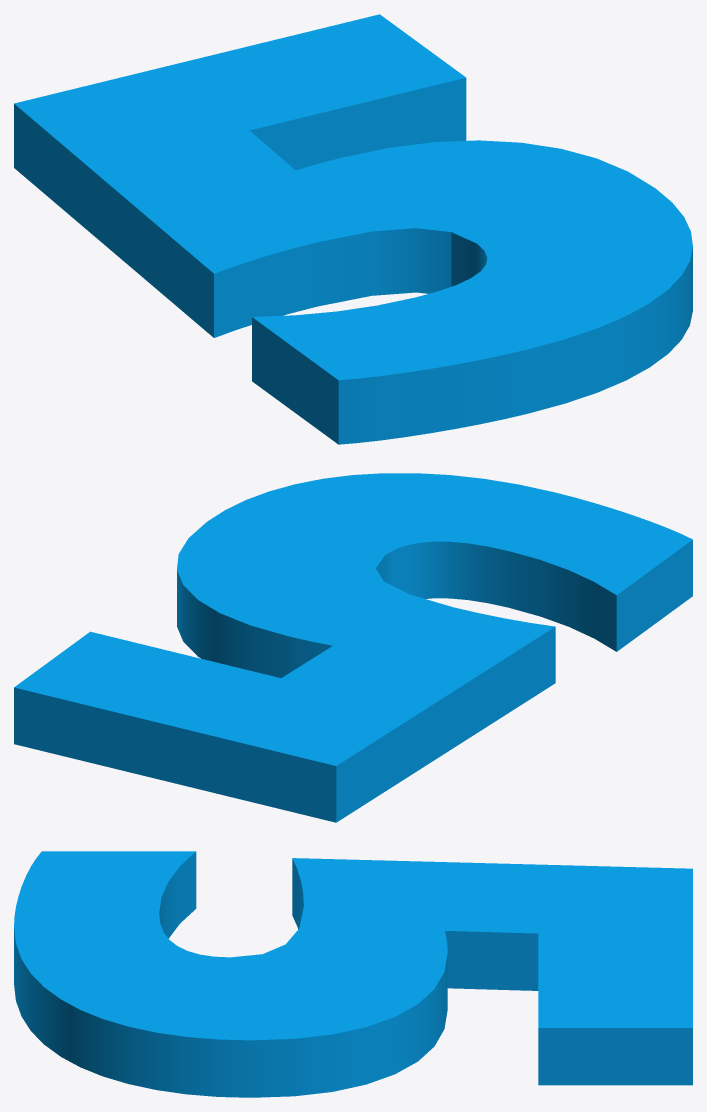
The model's file is NumberModel_5.gltf.
3 views of the same model, one above another, from view 1: azimuth 30°, elevation 25°; view 2: azimuth 150°, elevation 25°; view 3: azimuth 270°, elevation 25° (orthographic). The views are drawn at different scales.
Parts seen in each view (by area): view 1: NumberModel_5; view 2: NumberModel_5; view 3: NumberModel_5.
Boxes of the visible parts, x1,y1,x2,y2 form: NumberModel_5: [14, 14, 692, 444]; NumberModel_5: [14, 473, 692, 822]; NumberModel_5: [14, 851, 692, 1097].
Size of the model in its own units: 0.5397 by 0.0764 by 0.8186.
